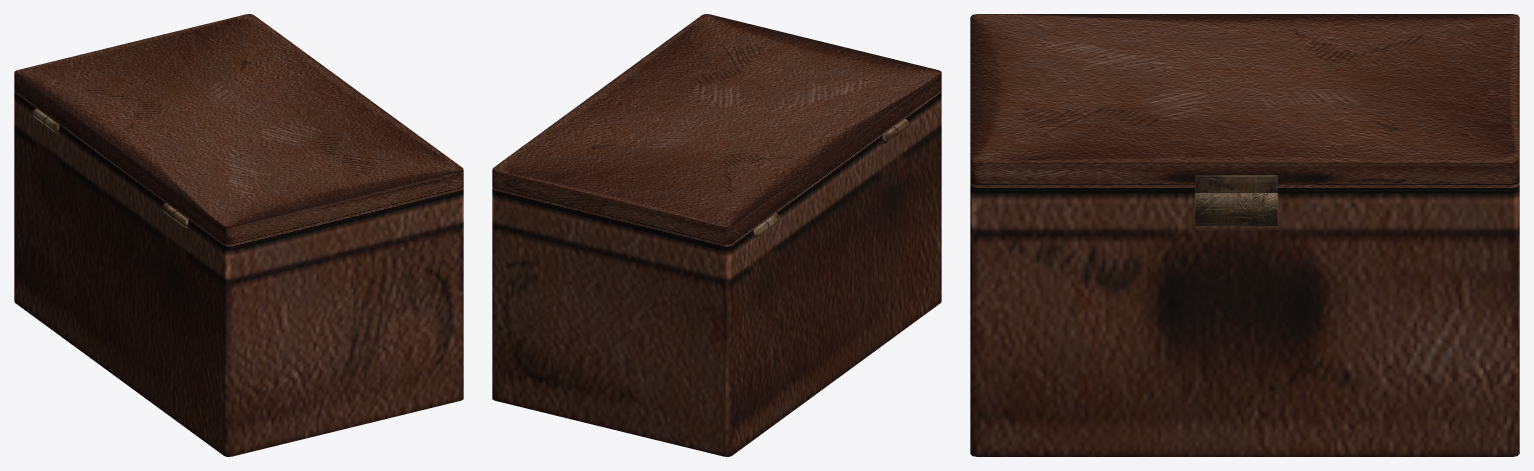
File: archives.fbx
3 renders of one model, left to right at view 1: azimuth 30°, elevation 25°; view 2: azimuth 150°, elevation 25°; view 3: azimuth 270°, elevation 25°, orthographic. The views are drawn at different scales.
Visible parts, largest first — view 1: body, couvercle; view 2: body, couvercle; view 3: body, couvercle.
Part boxes in pixels (x1=…): body: x1=14, y1=94, x2=463, y2=456; couvercle: x1=14, y1=14, x2=463, y2=249; body: x1=492, y1=94, x2=941, y2=456; couvercle: x1=492, y1=14, x2=941, y2=249; body: x1=970, y1=189, x2=1519, y2=456; couvercle: x1=970, y1=14, x2=1519, y2=192.
Size of the model in its own units: 56.46 by 50.5 by 85.57.
